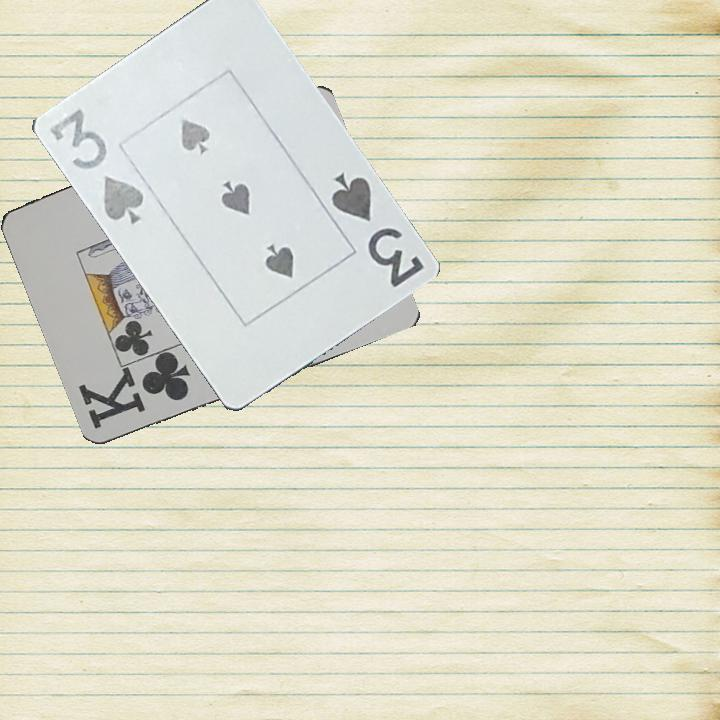3s: (45, 105, 148, 228), (326, 168, 427, 291)
Kc: (78, 352, 194, 432)
